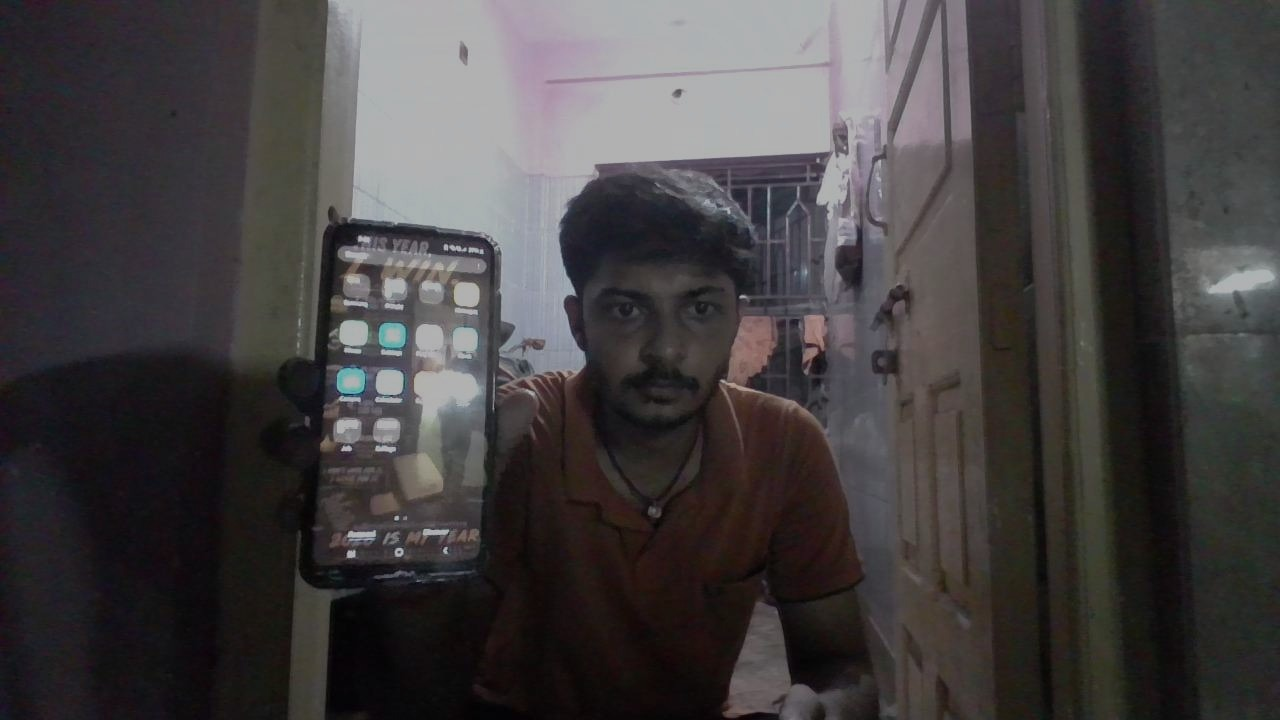red_box: (682, 394, 859, 583), (567, 444, 650, 542)
